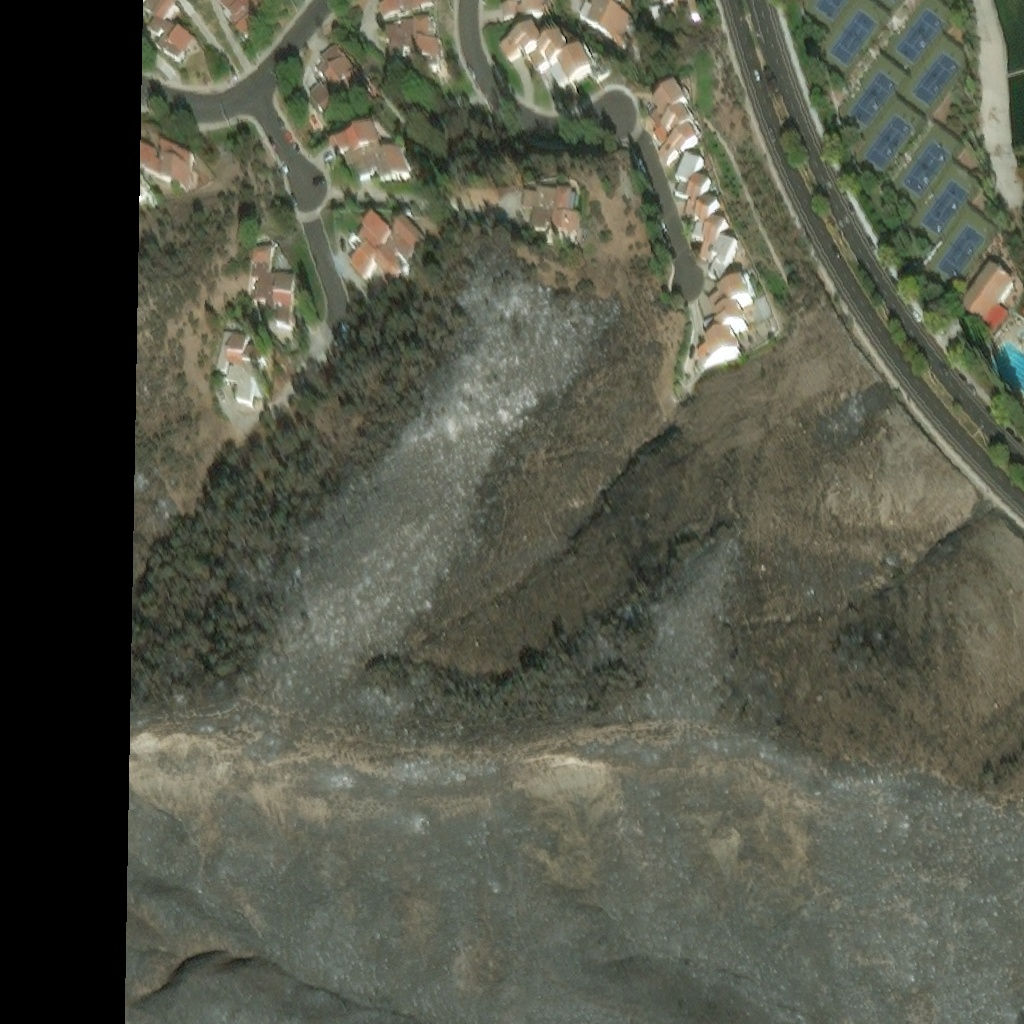0 no-damage: (143, 0, 204, 79), (350, 221, 426, 283), (334, 138, 417, 193), (249, 252, 300, 333), (314, 62, 375, 129), (216, 335, 269, 406), (962, 269, 1016, 336), (521, 186, 581, 245), (389, 25, 446, 81), (223, 0, 276, 59), (577, 0, 640, 47), (140, 147, 200, 191), (529, 34, 580, 76), (647, 85, 692, 126), (551, 48, 598, 87), (675, 177, 714, 224), (656, 126, 702, 163), (650, 108, 696, 145), (380, 0, 439, 27), (696, 332, 741, 367), (711, 285, 758, 318), (502, 33, 546, 68), (700, 222, 731, 270), (504, 0, 556, 28), (711, 244, 742, 290), (693, 202, 723, 246), (703, 309, 747, 336), (649, 0, 700, 23), (675, 156, 704, 185), (140, 177, 157, 204)
